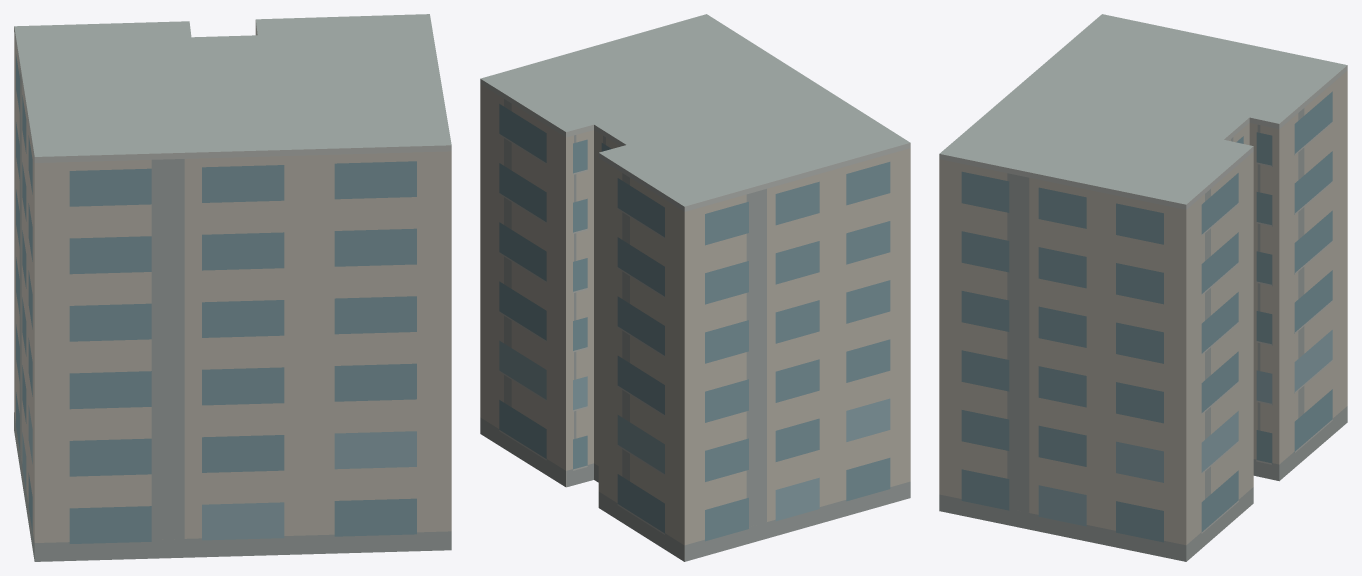
Rendered from survey-upis-32845405.glb.
The picture shows the model from 3 angles, left to right: view 1: azimuth 30°, elevation 25°; view 2: azimuth 150°, elevation 25°; view 3: azimuth 270°, elevation 25°; orthographic projection. The views are drawn at different scales.
Visible parts, largest first — view 1: survey-upis-32845405.tmp; view 2: survey-upis-32845405.tmp; view 3: survey-upis-32845405.tmp.
Boxes of the visible parts, x1,y1,x2,y2 form: survey-upis-32845405.tmp: (14,14,451,561); survey-upis-32845405.tmp: (480,14,910,561); survey-upis-32845405.tmp: (939,14,1347,561).
Bounding box in the file's own units: 18.59 × 16.23 × 16.82.
